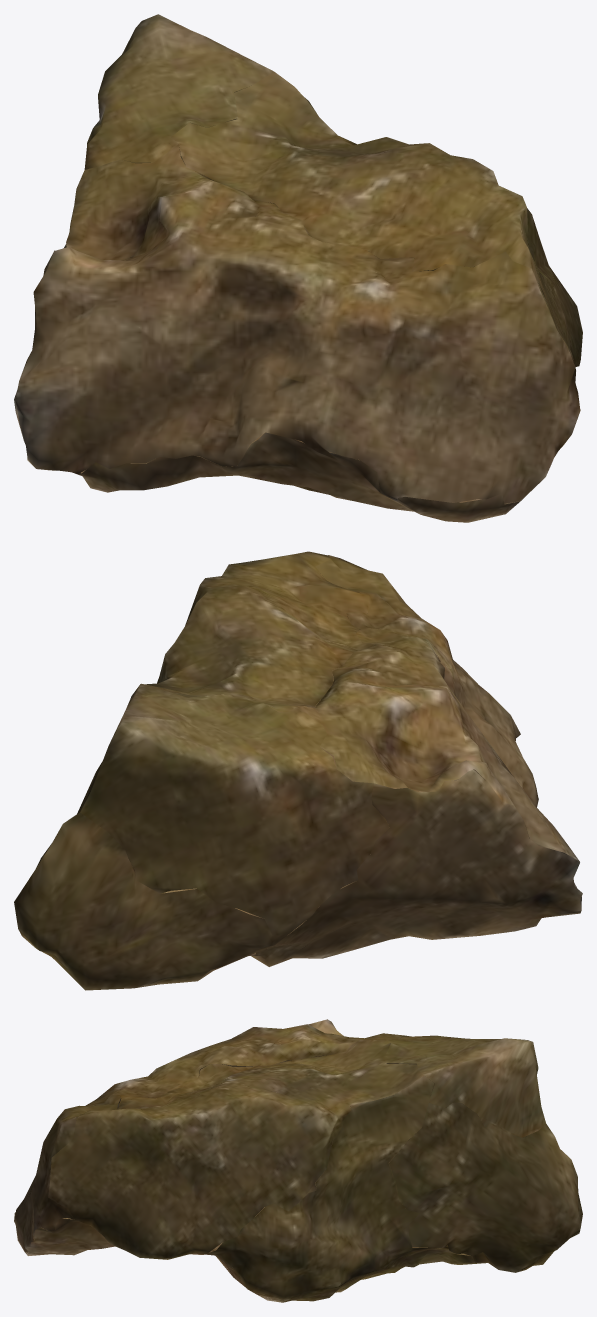
Rendered from rock_moss_set_01_4.glb.
The picture shows the model from 3 angles, top to bottom: view 1: azimuth 30°, elevation 25°; view 2: azimuth 150°, elevation 25°; view 3: azimuth 270°, elevation 25°; orthographic projection. The views are drawn at different scales.
Visible parts, largest first — view 1: rock_moss_set_01_rock06; view 2: rock_moss_set_01_rock06; view 3: rock_moss_set_01_rock06.
Boxes of the visible parts, box(x1,y1,x2,y2) form: rock_moss_set_01_rock06: box(14, 14, 582, 522); rock_moss_set_01_rock06: box(14, 551, 582, 990); rock_moss_set_01_rock06: box(14, 1019, 582, 1302).
Size of the model in its own units: 2.14 by 1.26 by 2.76.
1 material, 1 textured.
